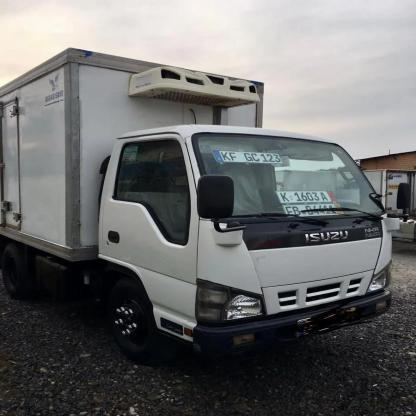Truck: (0, 47, 401, 362)
